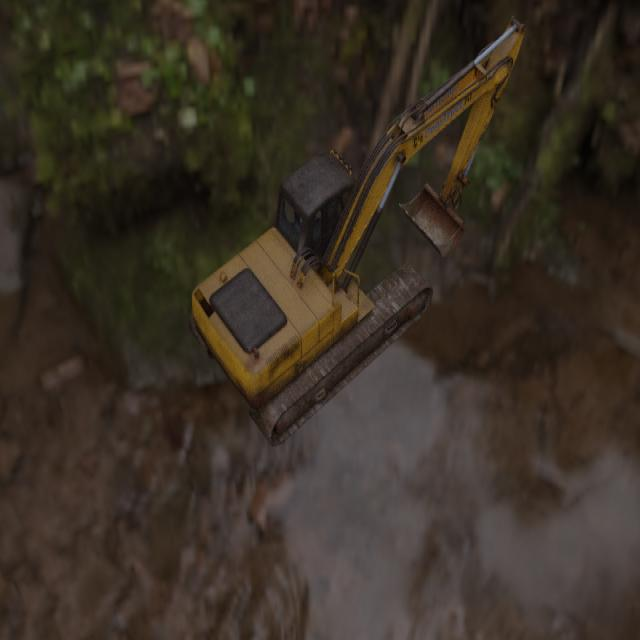excavator: (188, 13, 526, 447)
